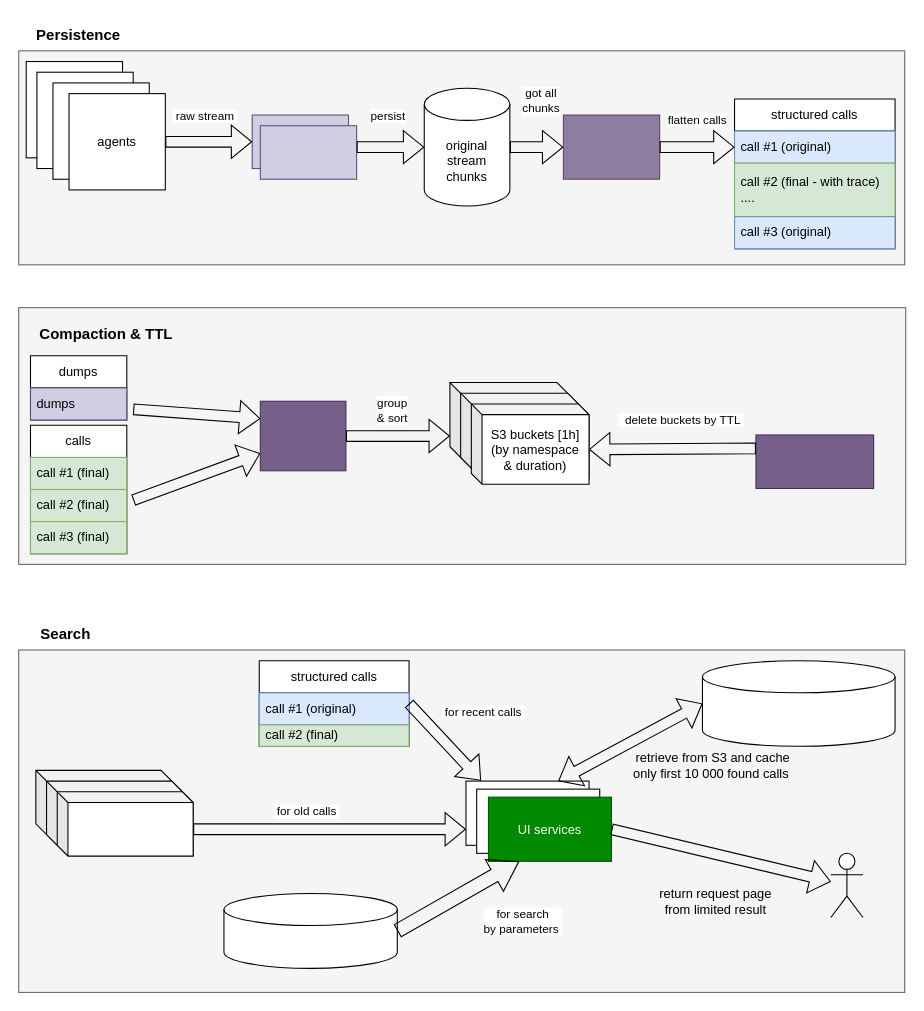
Image size: 924x1011. Some labels were removed from this diagram. Here are the shapes that lost their labels. From the top down, the centre of each, then its label:
At (x=308, y=152): "collectors".
At (x=611, y=146): "transformer".
At (x=302, y=435): "compactor".
At (x=814, y=461): "garbage collector".
At (x=798, y=703): "cache of recent results (for resorting, etc.)".
At (x=124, y=823): "S3 buckets [1h]".
At (x=846, y=885): "Actor".
At (x=310, y=930): "inverted indexes (for selected parameters)".
